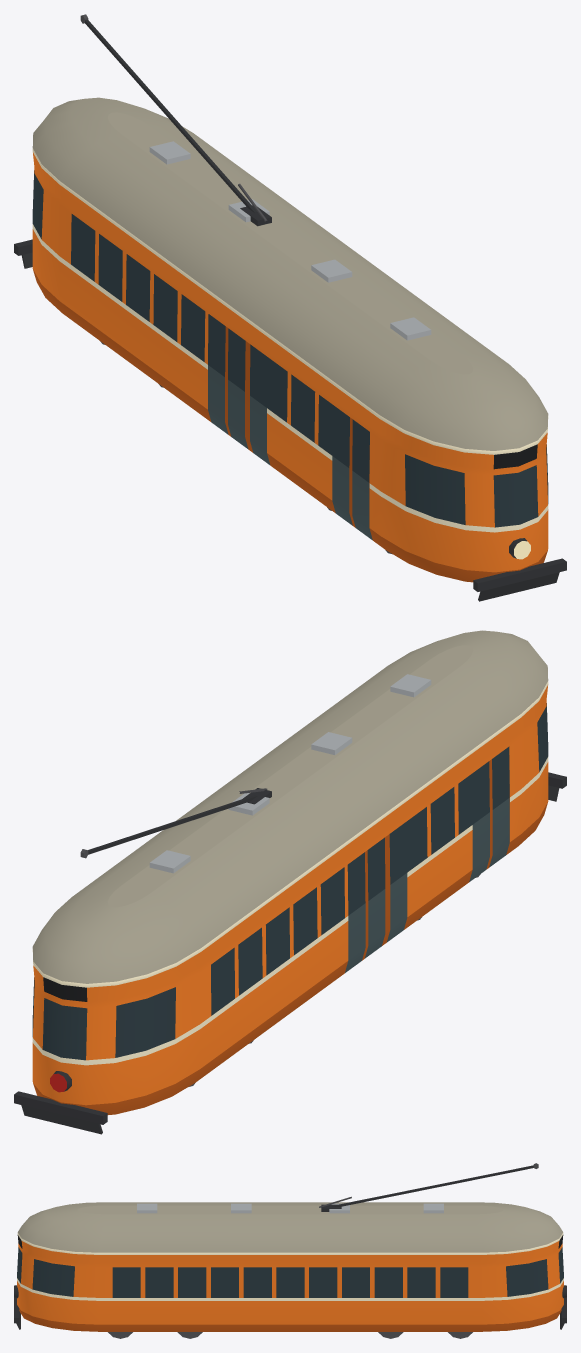
File: sf_streetcar_orange.glb
3 renders of one model, top to bottom at view 1: azimuth 30°, elevation 25°; view 2: azimuth 150°, elevation 25°; view 3: azimuth 270°, elevation 25°, orthographic. The views are drawn at different scales.
Parts seen in each view (by area): view 1: sf_streetcar_orange; view 2: sf_streetcar_orange; view 3: sf_streetcar_orange.
Part boxes in pixels (x1=…): sf_streetcar_orange: x1=14, y1=14, x2=566, y2=601; sf_streetcar_orange: x1=14, y1=630, x2=566, y2=1134; sf_streetcar_orange: x1=14, y1=1163, x2=566, y2=1338.
Bounding box in the file's own units: 2.38 × 4.37 × 13.5.
Materials: 1 (1 with a texture image).
